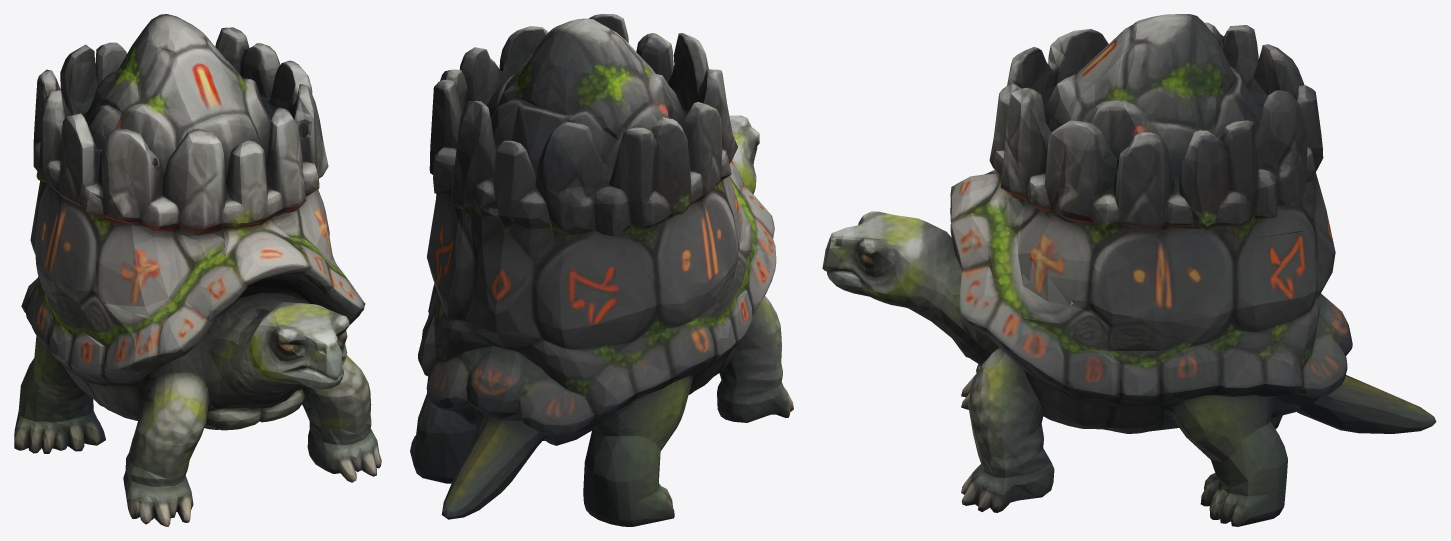
Rendered from shellmund__runeShell.glb.
3 renders of one model, left to right at view 1: azimuth 30°, elevation 25°; view 2: azimuth 150°, elevation 25°; view 3: azimuth 270°, elevation 25°, orthographic. The views are drawn at different scales.
Parts seen in each view (by area): view 1: world; view 2: world; view 3: world.
Boxes of the visible parts, <box> form: world: <box>14,14,381,526</box>; world: <box>410,14,793,526</box>; world: <box>822,14,1436,526</box>.
Bounding box in the file's own units: 0.5248 × 0.8009 × 0.9928.
1 material, 1 textured.
